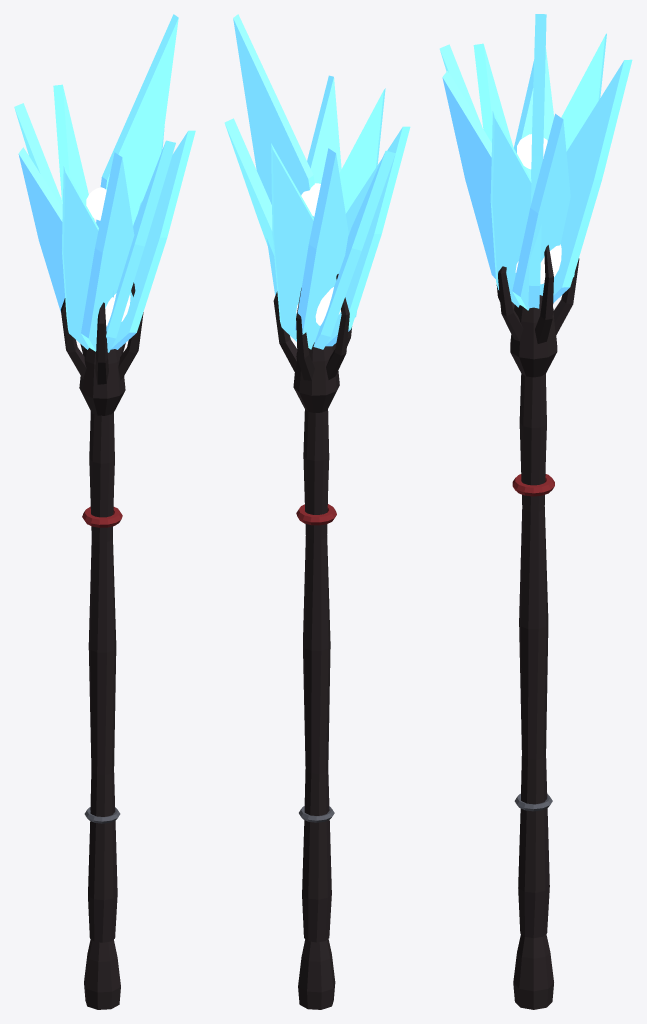
File: staff_frostfire.glb
The picture shows the model from 3 angles, left to right: view 1: azimuth 30°, elevation 25°; view 2: azimuth 150°, elevation 25°; view 3: azimuth 270°, elevation 25°; orthographic projection. The views are drawn at different scales.
Visible parts, largest first — view 1: Ff_Shaft, Ff_Flame0, Ff_Flame5, Ff_Flame4, Ff_Flame7, Ff_Flame3, Ff_Flame6, Ff_Butt, Ff_Neck, Ff_Flame1, Ff_Flame2, Ff_Twig3 (+4 smaller); view 2: Ff_Shaft, Ff_Flame0, Ff_Flame2, Ff_Flame1, Ff_Flame4, Ff_Flame3, Ff_Flame5, Ff_Butt, Ff_Neck, Ff_Flame6, Ff_Flame8, Ff_Twig2 (+3 smaller); view 3: Ff_Shaft, Ff_Flame1, Ff_Flame7, Ff_Flame8, Ff_Flame6, Ff_Flame0, Ff_Butt, Ff_Neck, Ff_Flame2, Ff_Flame4, Ff_Flame3, Ff_Twig0 (+5 smaller).
Part boxes in pixels (box(x1,y1,x2,y2)): Ff_Shaft: box(88, 411, 117, 942); Ff_Flame0: box(96, 14, 178, 227); Ff_Flame5: box(81, 152, 134, 351); Ff_Flame4: box(62, 166, 113, 349); Ff_Flame7: box(111, 130, 195, 349); Ff_Flame3: box(18, 147, 64, 313); Ff_Flame6: box(106, 140, 175, 352); Ff_Butt: box(84, 939, 120, 1009); Ff_Neck: box(79, 347, 125, 415); Ff_Flame1: box(53, 84, 94, 219); Ff_Flame2: box(14, 103, 62, 207); Ff_Twig3: box(95, 302, 108, 384); Ff_Shaft: box(302, 409, 331, 942); Ff_Flame0: box(233, 14, 314, 295); Ff_Flame2: box(295, 148, 348, 349); Ff_Flame1: box(271, 143, 313, 341); Ff_Flame4: box(325, 126, 410, 346); Ff_Flame3: box(313, 150, 395, 349); Ff_Flame5: box(339, 88, 385, 317); Ff_Butt: box(298, 939, 335, 1009); Ff_Neck: box(293, 342, 339, 412); Ff_Flame6: box(307, 75, 341, 183); Ff_Flame8: box(224, 118, 274, 255); Ff_Twig2: box(326, 274, 349, 379); Ff_Shaft: box(518, 374, 549, 938); Ff_Flame1: box(540, 59, 632, 302); Ff_Flame7: box(490, 111, 544, 307); Ff_Flame8: box(512, 113, 570, 310); Ff_Flame6: box(442, 71, 495, 278); Ff_Flame0: box(528, 14, 546, 308); Ff_Butt: box(513, 934, 553, 1009); Ff_Neck: box(510, 295, 557, 377); Ff_Flame2: box(561, 33, 606, 276); Ff_Flame4: box(473, 43, 513, 146); Ff_Flame3: box(514, 47, 554, 177); Ff_Twig0: box(535, 245, 553, 343).
Size of the model in its own units: 0.4588 by 2.66 by 0.4526.
